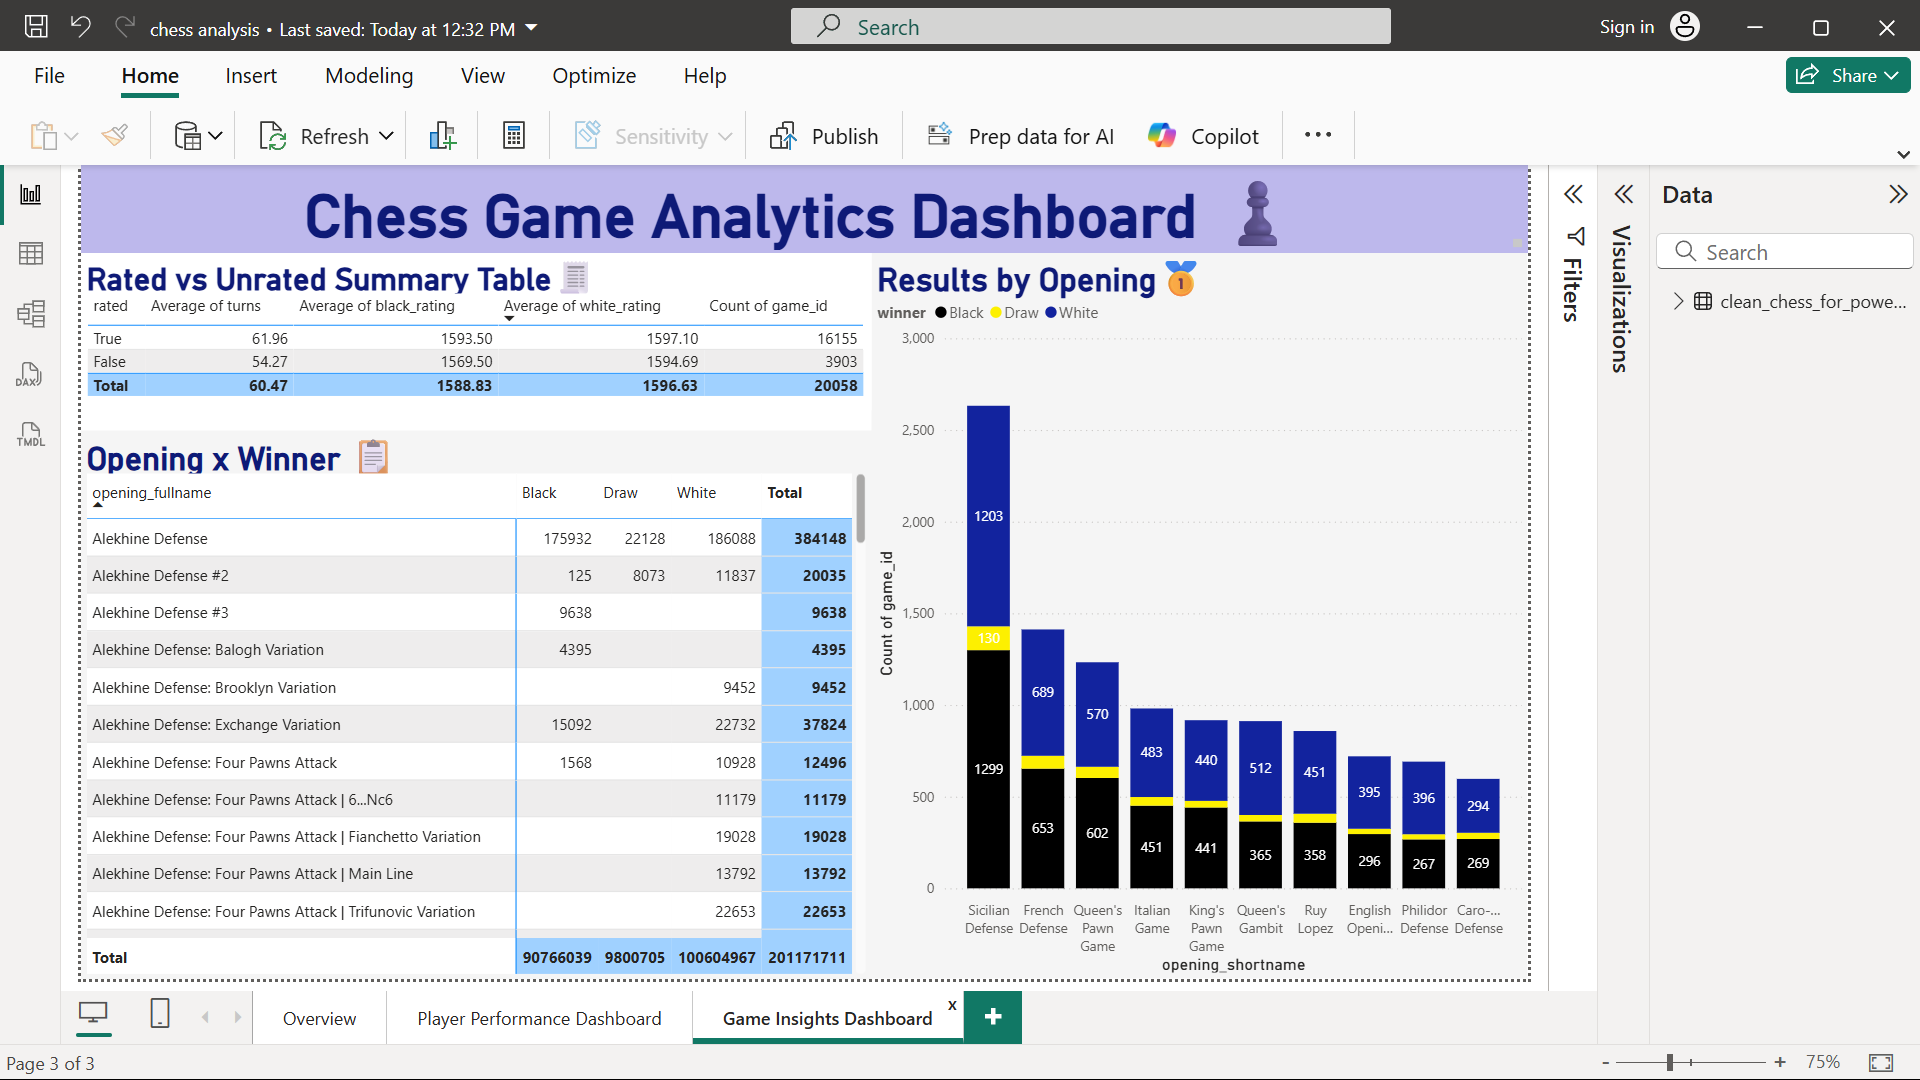

The dashboard page shown, as its layout file describes it:
{"tool":"powerbi","page":{"name":"Game Insights Dashboard","canvas":[1280,720],"ordinal":2},"visuals":[{"type":"columnChart","title":"Results by Opening🥇 ","fields":{"Category":["clean_chess_for_powerbi.opening_shortname"],"Y":["CountNonNull(clean_chess_for_powerbi.game_id)"],"Series":["clean_chess_for_powerbi.winner"]},"box":[699.2,77.5,580.2,642.5],"z":0},{"type":"tableEx","title":"Rated vs Unrated Summary Table🧾 ","fields":{"Values":["clean_chess_for_powerbi.rated","Avg(clean_chess_for_powerbi.turns)","Avg(clean_chess_for_powerbi.black_rating)","Avg(clean_chess_for_powerbi.white_rating)","CountNonNull(clean_chess_for_powerbi.game_id)"]},"box":[0,77.5,699.2,139.8],"z":1000},{"type":"pivotTable","title":"Opening x Winner 📋 ","fields":{"Columns":["clean_chess_for_powerbi.winner"],"Rows":["clean_chess_for_powerbi.opening_fullname"],"Values":["Sum(clean_chess_for_powerbi.game_id)"]},"box":[0,234.3,699.2,485.7],"z":2000},{"type":"textbox","title":" Chess Game Analytics Dashboard ♟️","box":[0,0,1279.4,77.5],"z":2001}]}

Visuals, with their boxes on the page's 1280x720 design canvas (x1, y1, x2, y2). These are canvas units, not pixel positions in the 1920x1080 screenshot, which may show the page scaled, cropped or inside an application window:
"Results by Opening🥇 " columnChart: (x1=699, y1=78, x2=1279, y2=720)
"Rated vs Unrated Summary Table🧾 " tableEx: (x1=0, y1=78, x2=699, y2=217)
"Opening x Winner 📋 " pivotTable: (x1=0, y1=234, x2=699, y2=720)
" Chess Game Analytics Dashboard ♟️" textbox: (x1=0, y1=0, x2=1279, y2=78)
